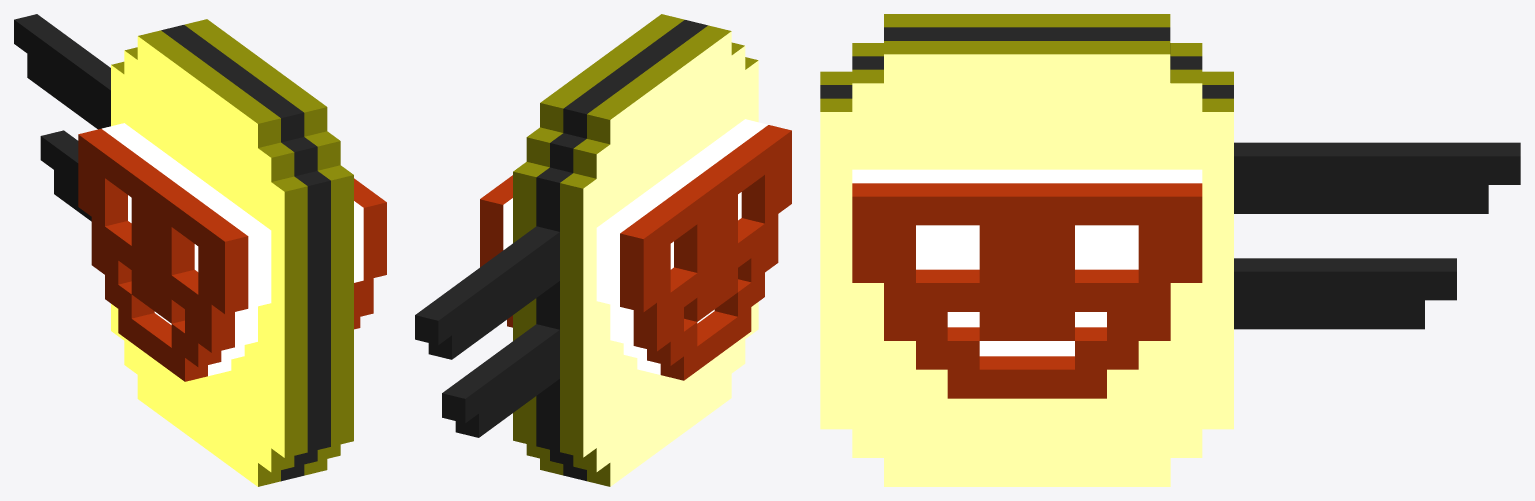
The model's file is yoshSign.glb.
3 views of the same model, side by side, from view 1: azimuth 30°, elevation 25°; view 2: azimuth 150°, elevation 25°; view 3: azimuth 270°, elevation 25° (orthographic). The views are drawn at different scales.
Visible parts, largest first — view 1: ObjObject; view 2: ObjObject; view 3: ObjObject.
Boxes of the visible parts, x1=… form: ObjObject: x1=14, y1=14, x2=386, y2=486; ObjObject: x1=415, y1=14, x2=791, y2=486; ObjObject: x1=820, y1=14, x2=1520, y2=486.
Bounding box in the file's own units: 0.7 × 1.5 × 2.2.
3 materials, 1 textured.
